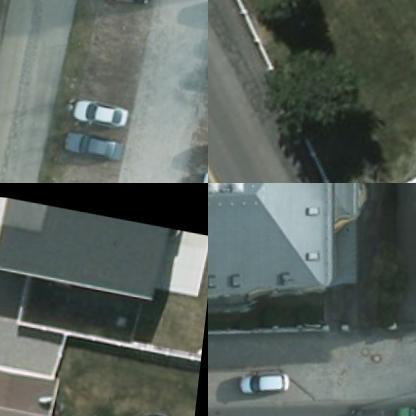car: (245, 360, 301, 404), (72, 128, 131, 158), (81, 98, 137, 126), (100, 0, 160, 9)
